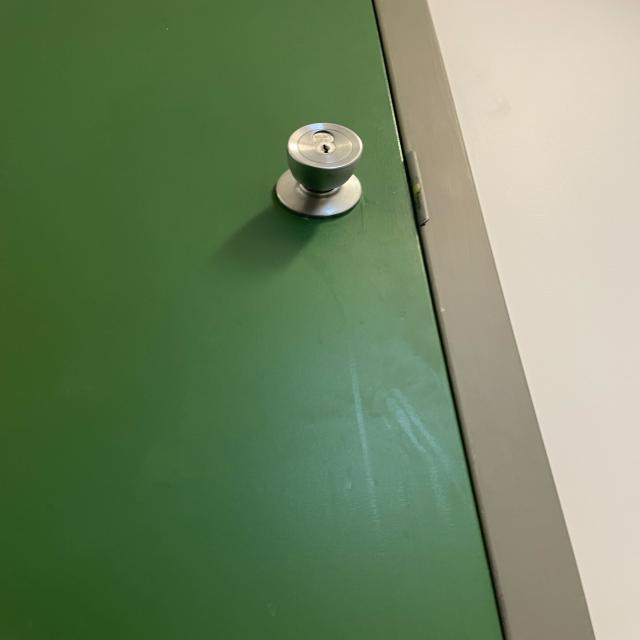door-knob: (277, 122, 363, 218)
